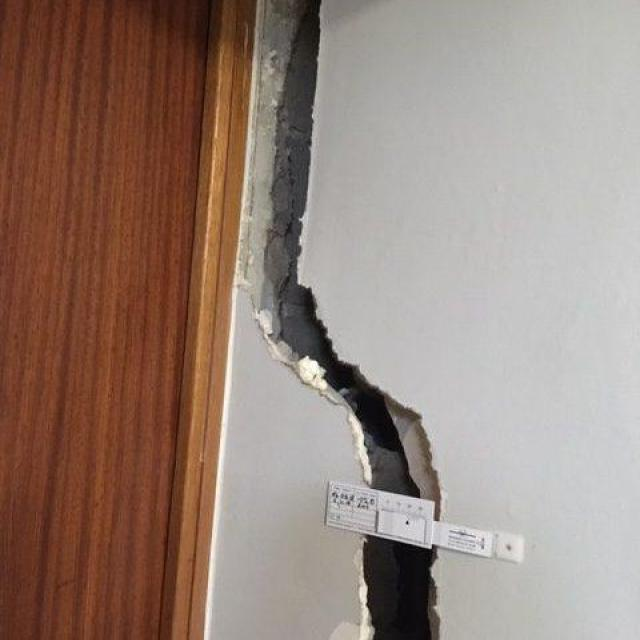crack: (236, 2, 445, 638)
